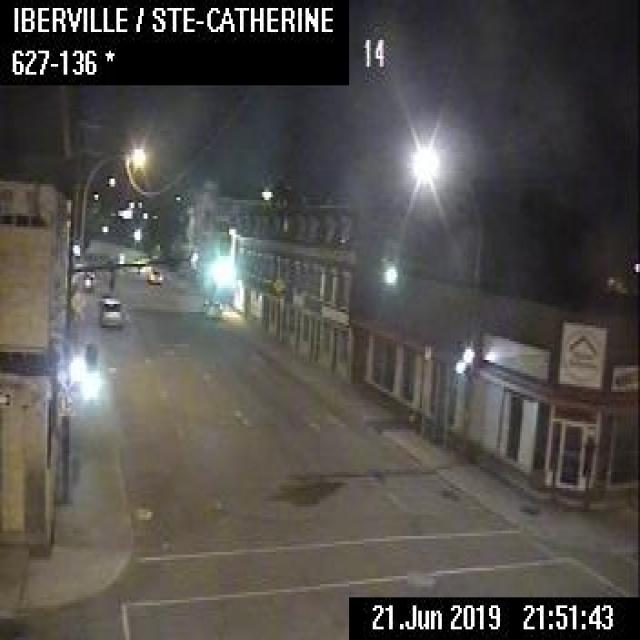vehicle: (98, 295, 124, 328), (202, 299, 220, 317), (146, 266, 163, 284)
